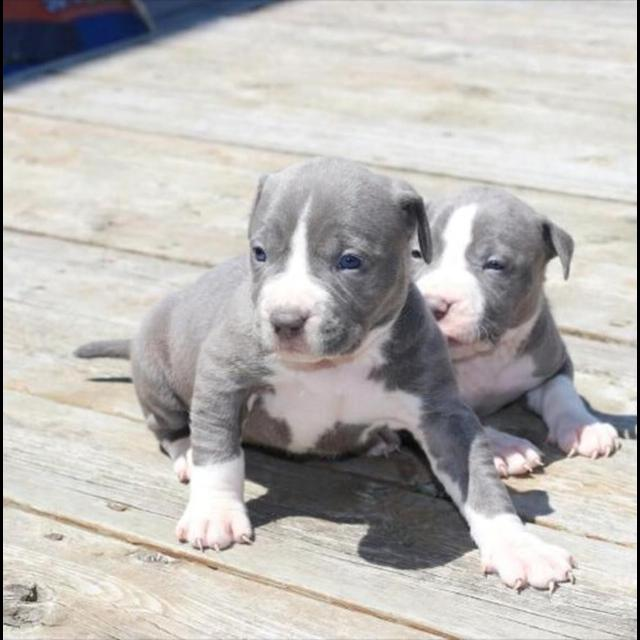am_pit_bull_terrier: (74, 155, 581, 595), (408, 182, 624, 480)
